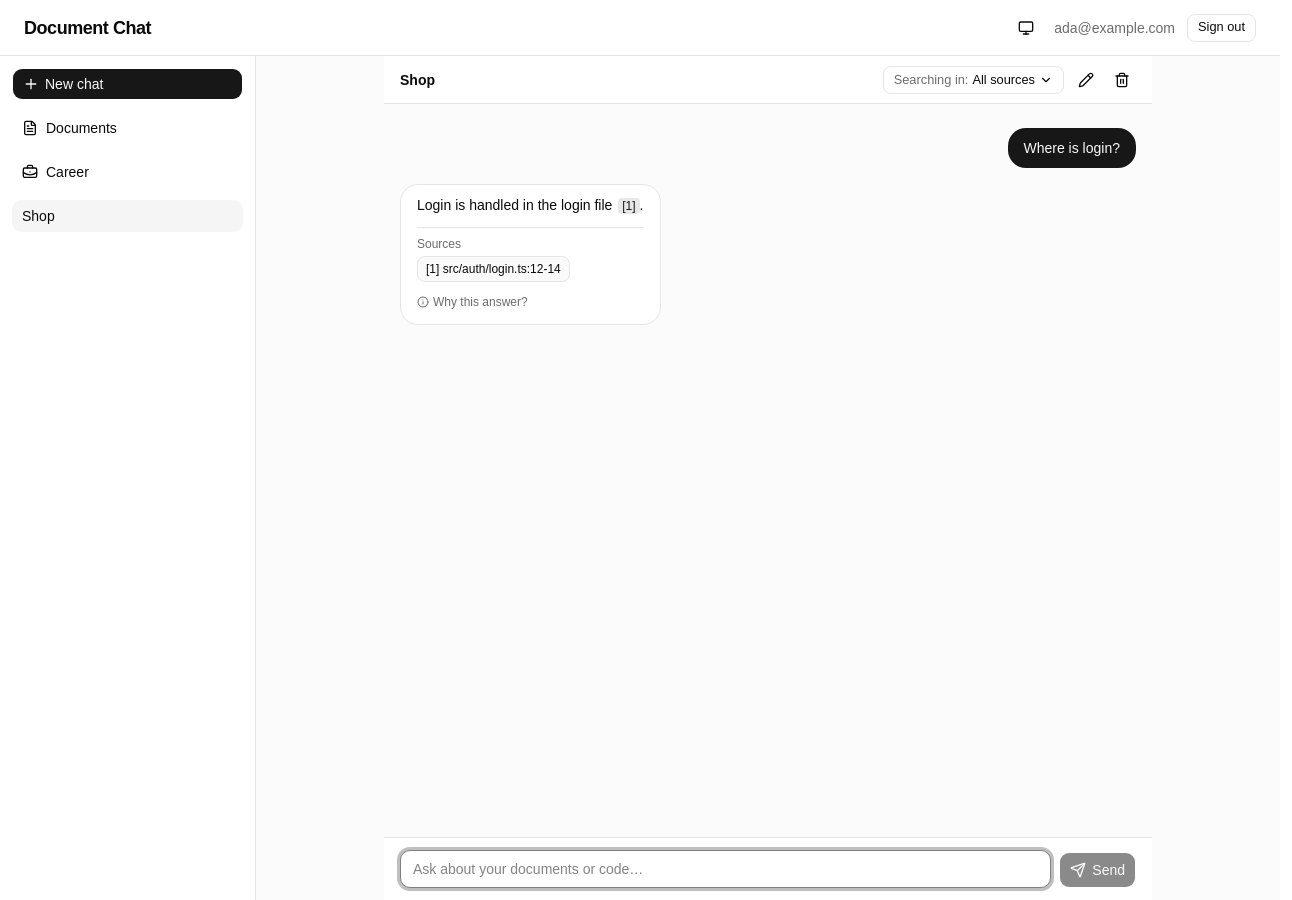
Test case: a source that is a piece of code › the viewer › is titled with the file, and says which repository and source it is
The image size is (1292, 900).
Step 1. Click the button named "Source 1" → click(629, 206), box x1=618 y1=198 x2=640 y2=214
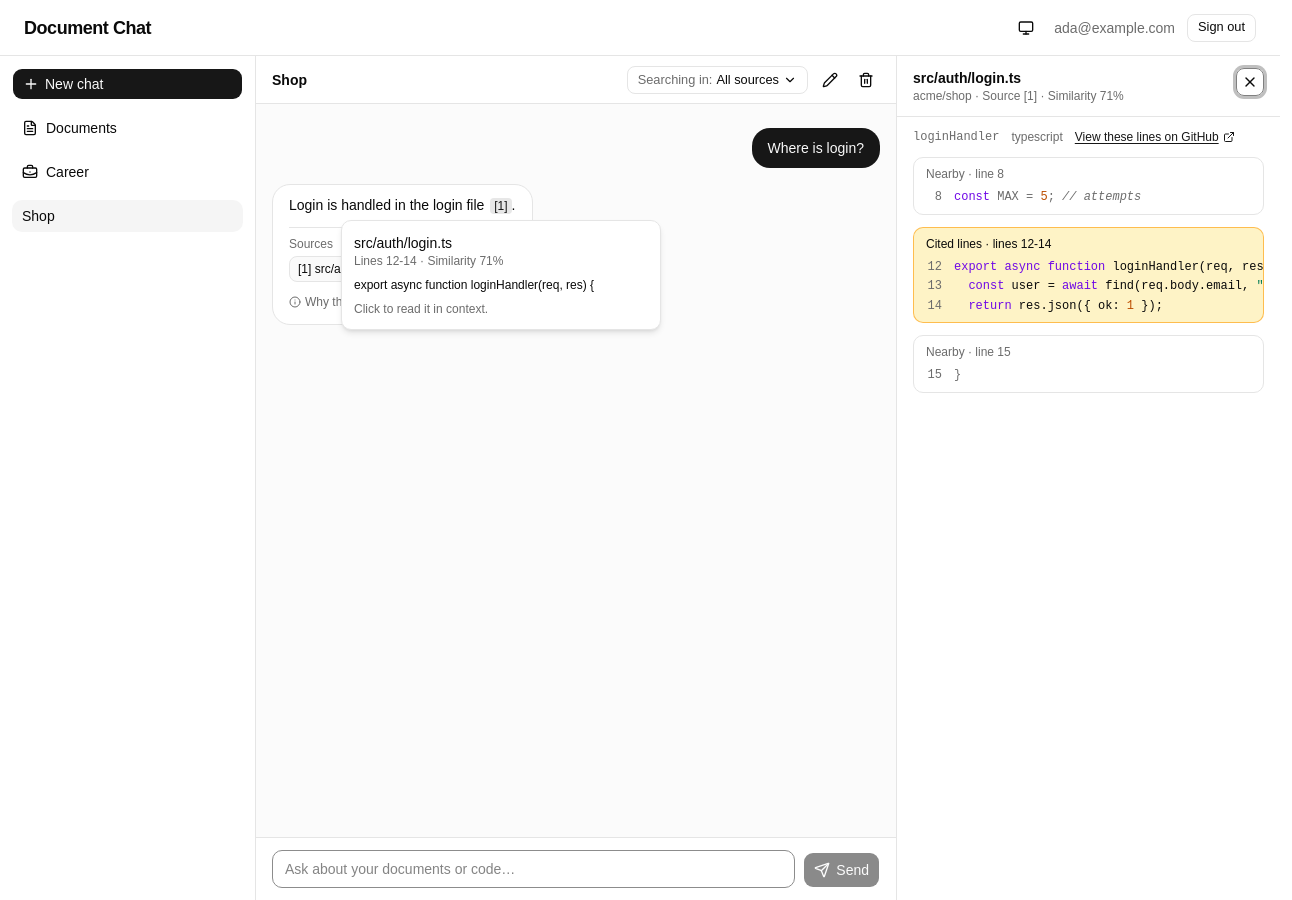
Expected: the heading "src/auth/login.ts" is shown, x1=913 y1=70 x2=1021 y2=86
Expected: the element named "Source viewer" shows "acme/shop · Source [1] · Similarity 71%", x1=913 y1=89 x2=1124 y2=103
Expected: the text "loginHandler" is shown, x1=913 y1=129 x2=999 y2=145
